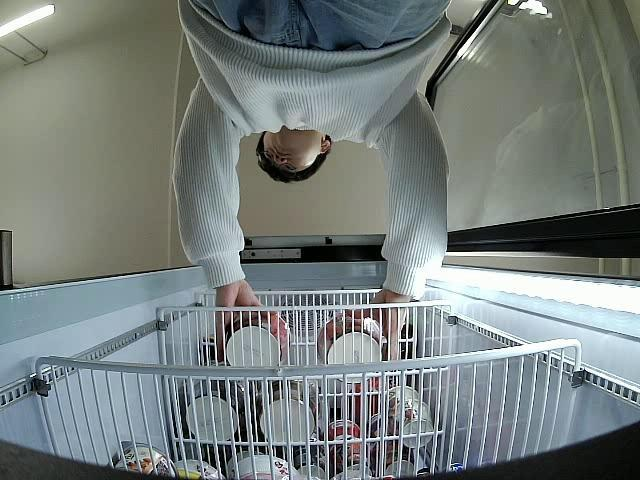01_ShinRamen_L: (314, 314, 386, 383), (224, 311, 292, 370)
